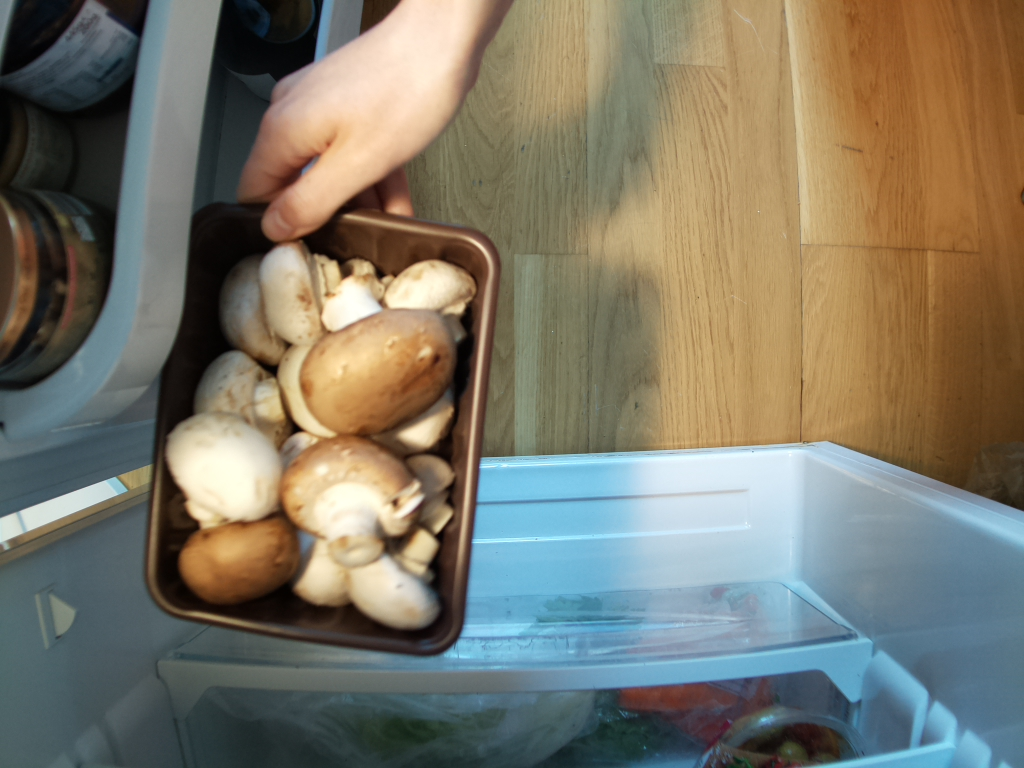mushrooms: (145, 197, 494, 658)
